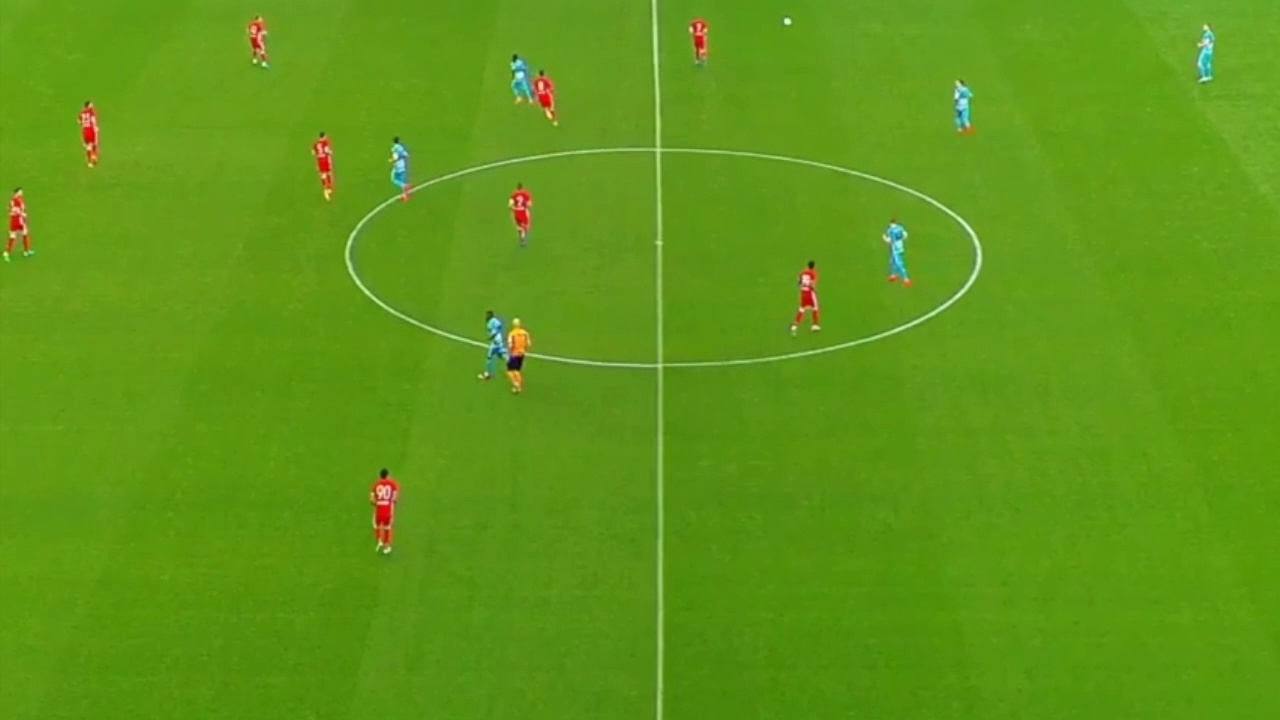ball: (780, 15, 791, 27)
person: (367, 465, 399, 554), (2, 184, 32, 261), (73, 100, 105, 170), (880, 218, 911, 284), (793, 259, 821, 330), (1191, 20, 1221, 83), (311, 131, 338, 198), (481, 315, 509, 375), (246, 15, 273, 69), (535, 73, 559, 129), (388, 136, 410, 195), (686, 15, 711, 62), (513, 181, 531, 245), (507, 55, 531, 101), (952, 77, 971, 131)
